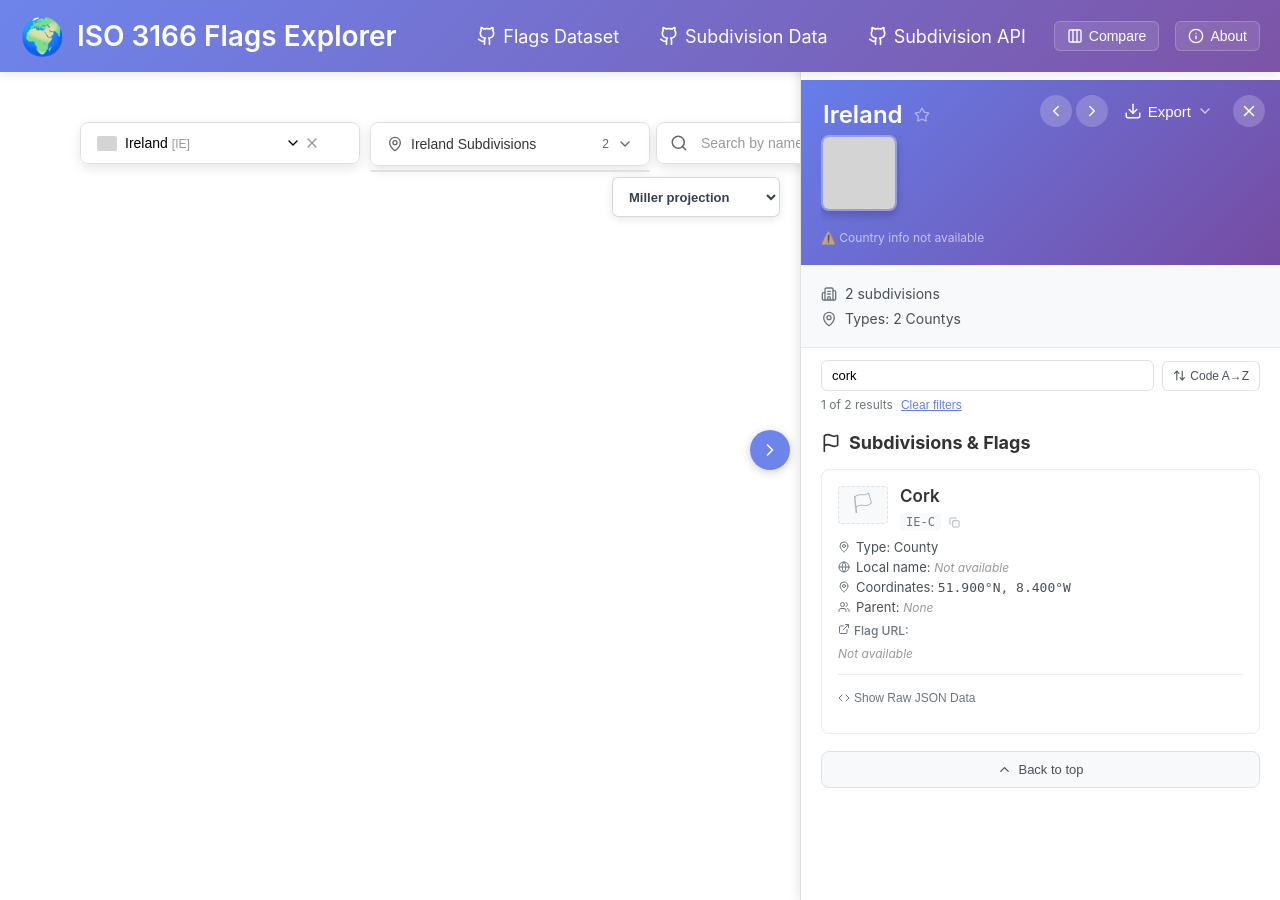
Test case: InteractiveMap URL parameters › clears filters when the user moves to a different country
Check: the heading "Ireland" is shown, box top-left (823, 100), bottom-right (903, 129)
Click the button with test id "country-dropdown-trigger" at {"x": 146, "y": 143}, box top-left (80, 122), bottom-right (360, 164)
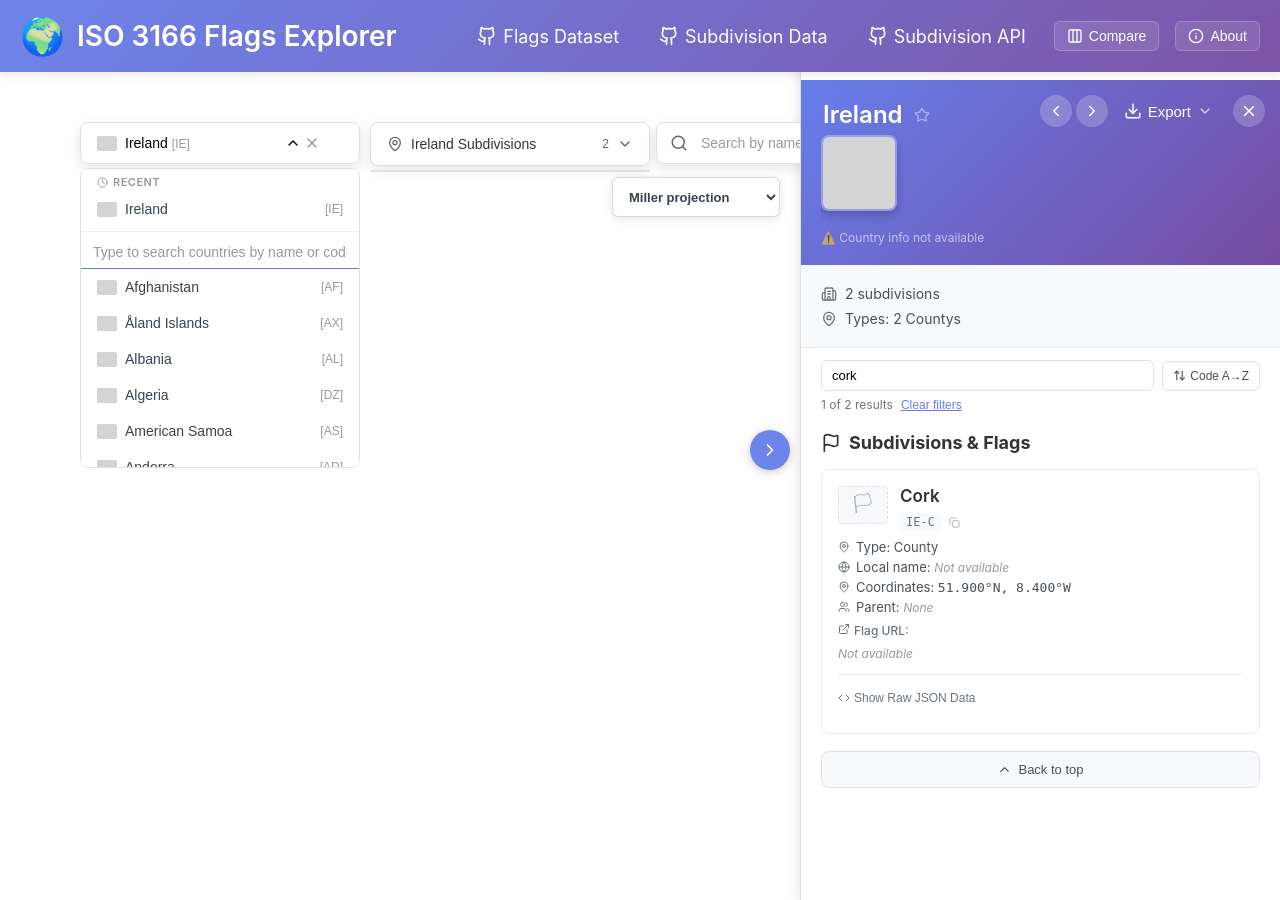
Type "France" into the field with test id "country-dropdown-search" at {"x": 220, "y": 252}, box top-left (81, 236), bottom-right (359, 269)
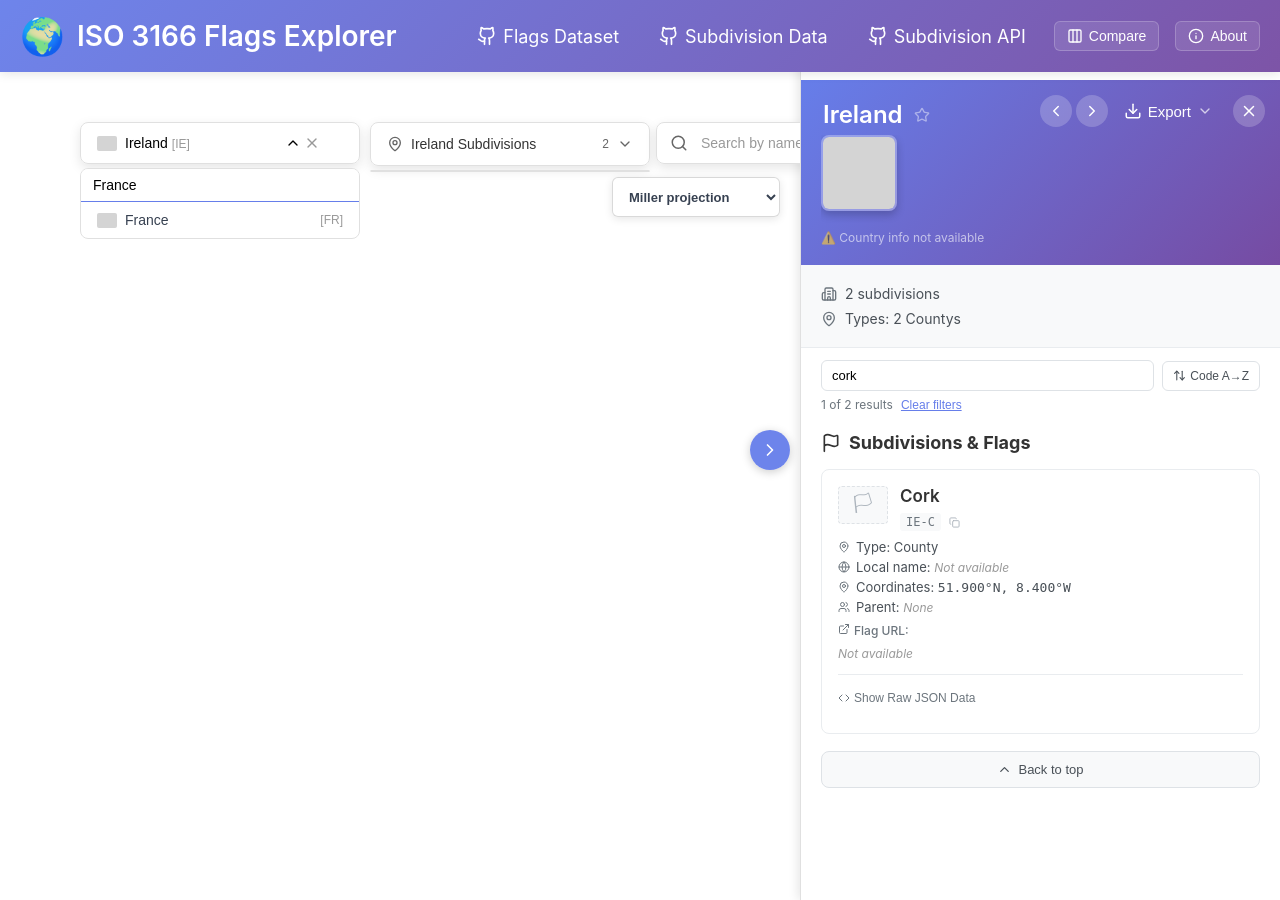
Click the option with test id "country-option-FR" at {"x": 147, "y": 220}, box top-left (81, 202), bottom-right (359, 238)
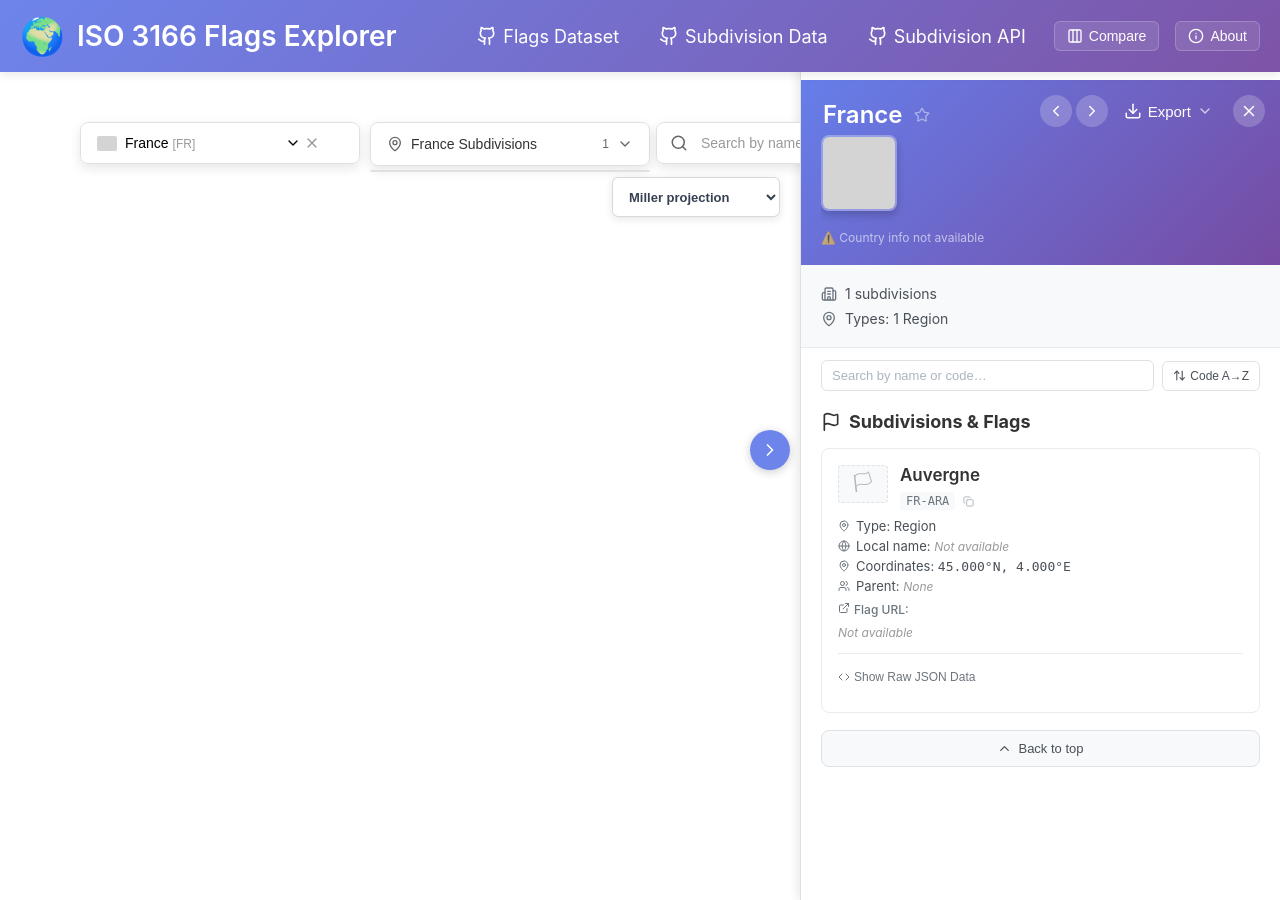
Check: the heading "France" is shown, box top-left (823, 100), bottom-right (902, 129)
Check: the field with placeholder "Search by name or code…" is empty, box top-left (821, 360), bottom-right (1154, 391)
